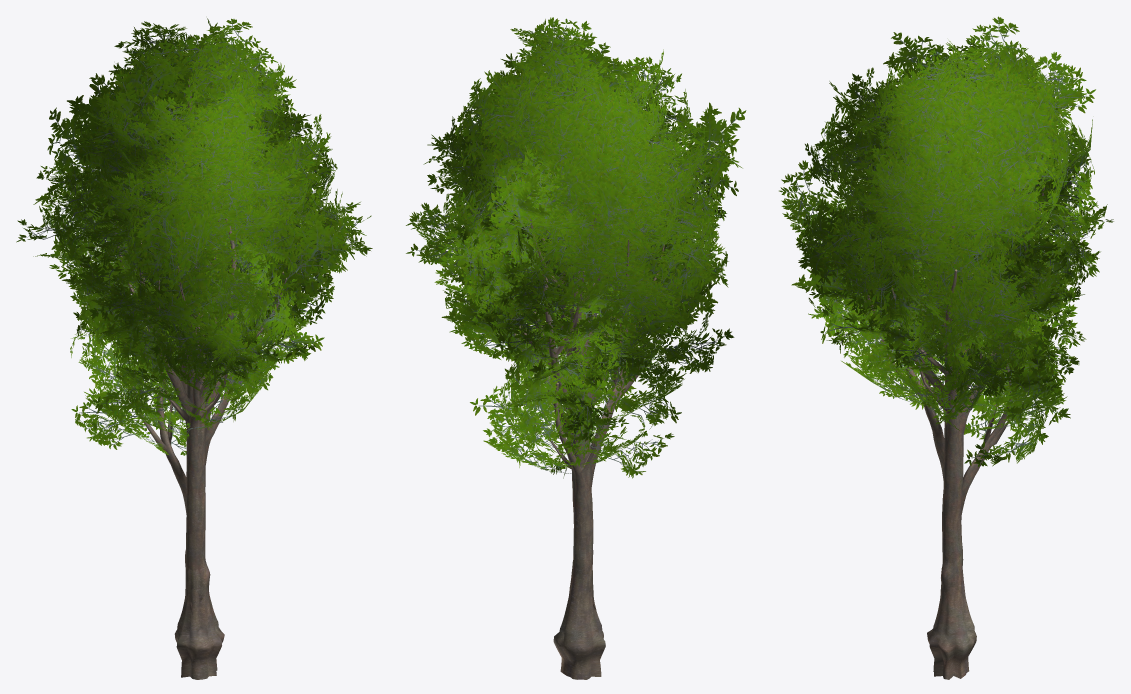
The picture shows the model from 3 angles, left to right: view 1: azimuth 30°, elevation 25°; view 2: azimuth 150°, elevation 25°; view 3: azimuth 270°, elevation 25°; orthographic projection.
Parts seen in each view (by area): view 1: SM_Ash_Tree_03_LOD0; view 2: SM_Ash_Tree_03_LOD0; view 3: SM_Ash_Tree_03_LOD0.
Boxes of the visible parts, left/top/right/bottom form: SM_Ash_Tree_03_LOD0: left=16, top=18, right=372, bottom=679; SM_Ash_Tree_03_LOD0: left=406, top=17, right=746, bottom=679; SM_Ash_Tree_03_LOD0: left=779, top=16, right=1113, bottom=679.
Size of the model in its own units: 8.71 by 17.19 by 8.17.
2 materials, 2 textured.
